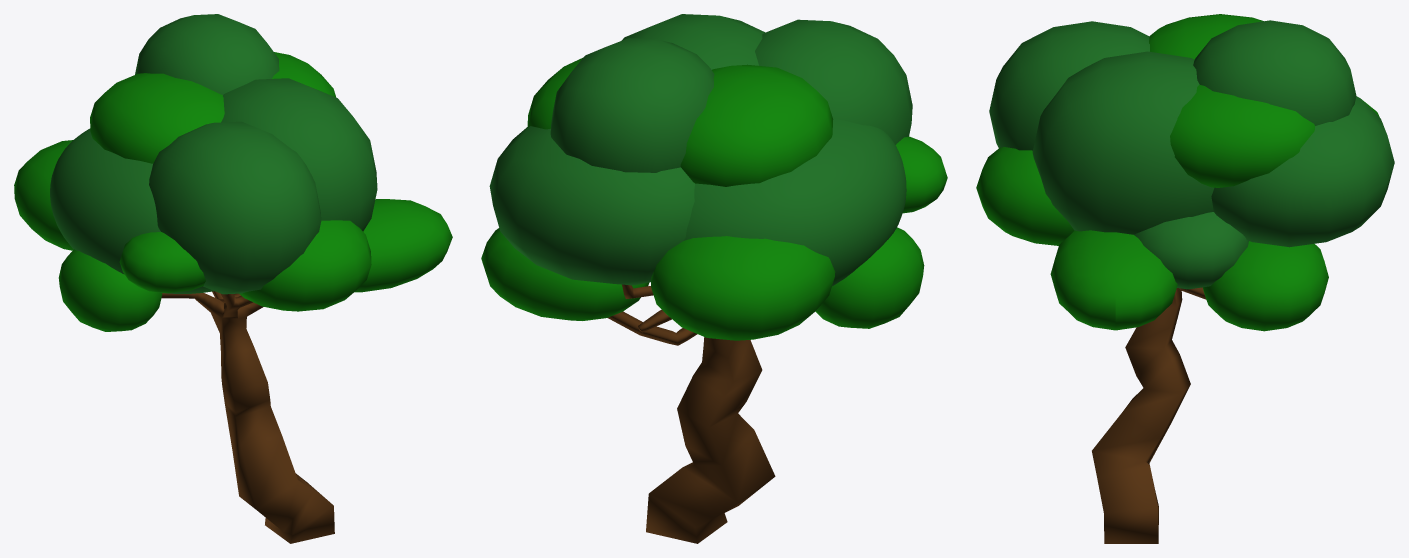
The model's file is tree_ new2.fbx.
3 views of the same model, side by side, from view 1: azimuth 30°, elevation 25°; view 2: azimuth 150°, elevation 25°; view 3: azimuth 270°, elevation 25° (orthographic). The views are drawn at different scales.
Visible parts, largest first — view 1: Cube.013; view 2: Cube.013; view 3: Cube.013.
Boxes of the visible parts, bbox=[...] form: Cube.013: bbox=[14, 14, 452, 543]; Cube.013: bbox=[481, 14, 947, 543]; Cube.013: bbox=[976, 14, 1394, 543].
Size of the model in its own units: 1154 by 1460 by 1127.
